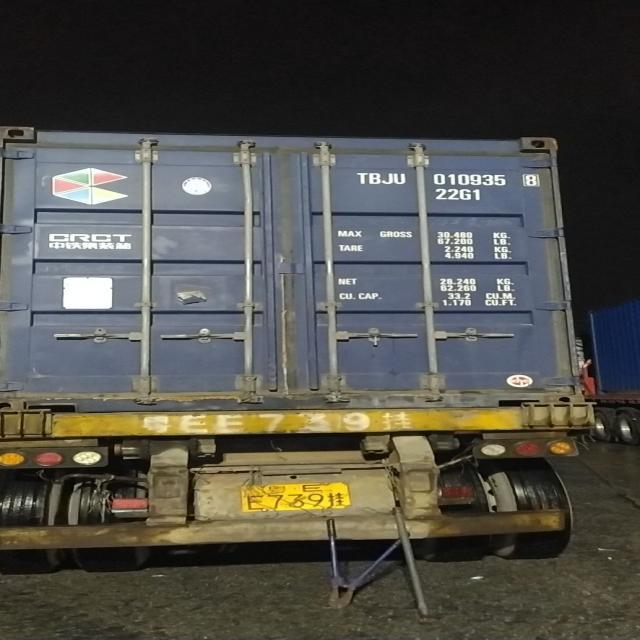ISO: (432, 188, 484, 205)
container_number: (358, 170, 541, 188)
